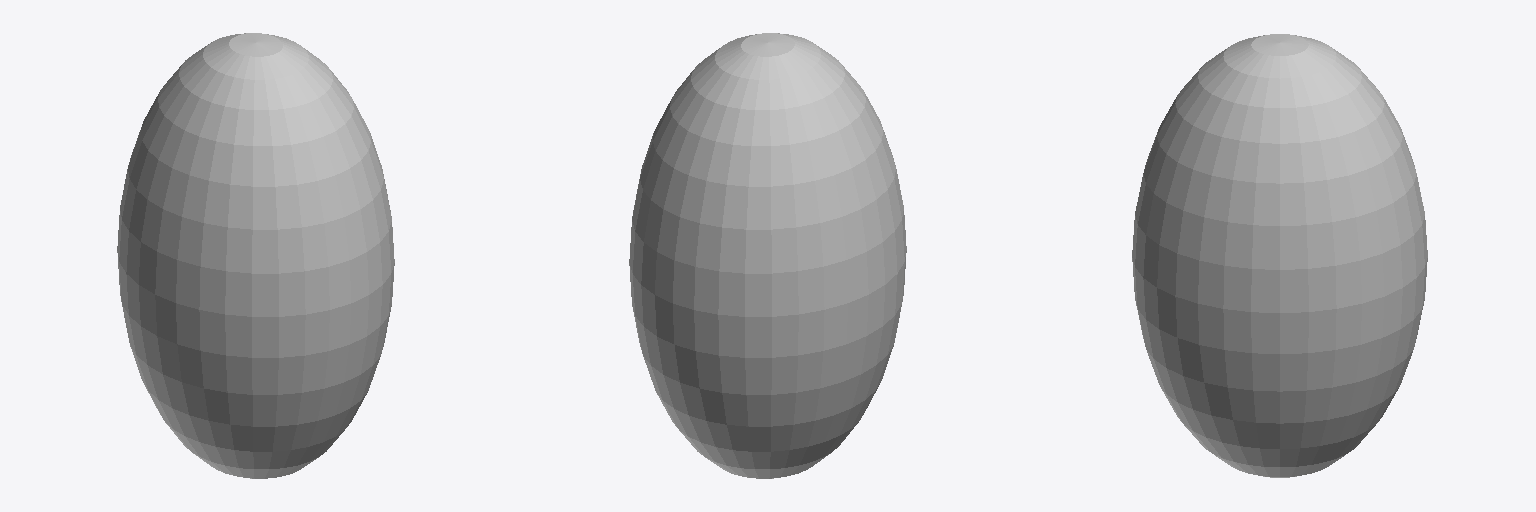
The model's file is benih.obj.
The picture shows the model from 3 angles: view 1: azimuth 30°, elevation 25°; view 2: azimuth 150°, elevation 25°; view 3: azimuth 270°, elevation 25°; orthographic projection.
Visible parts, largest first — view 1: Sphere; view 2: Sphere; view 3: Sphere.
Boxes of the visible parts, box(x1,y1,x2,y2) form: Sphere: box(117, 33, 394, 478); Sphere: box(629, 33, 906, 478); Sphere: box(1132, 34, 1427, 477).
Size of the model in its own units: 1.34 by 2.33 by 1.46.